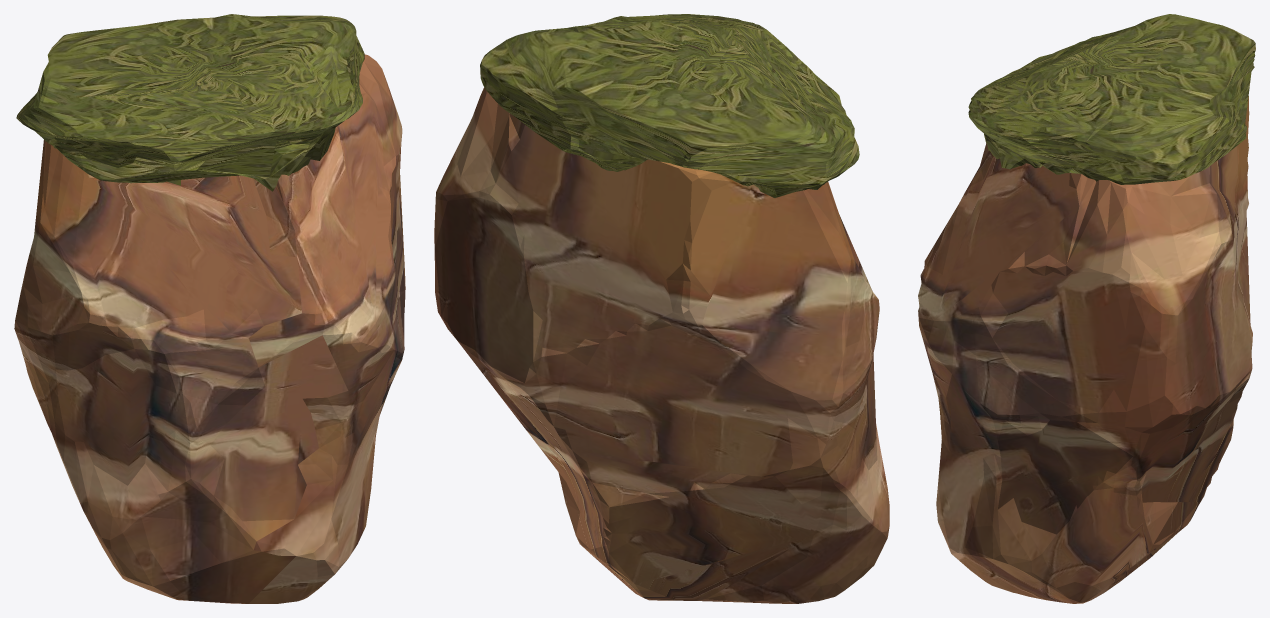
Rendered from platform06.fbx.
The picture shows the model from 3 angles, left to right: view 1: azimuth 30°, elevation 25°; view 2: azimuth 150°, elevation 25°; view 3: azimuth 270°, elevation 25°; orthographic projection. The views are drawn at different scales.
Visible parts, largest first — view 1: platform06; view 2: platform06; view 3: platform06.
Part boxes in pixels (left/top/right/bottom): platform06: left=14, top=14, right=405, bottom=603; platform06: left=434, top=14, right=889, bottom=603; platform06: left=918, top=14, right=1255, bottom=603.
Bounding box in the file's own units: 6.84 × 5.4 × 8.95.
